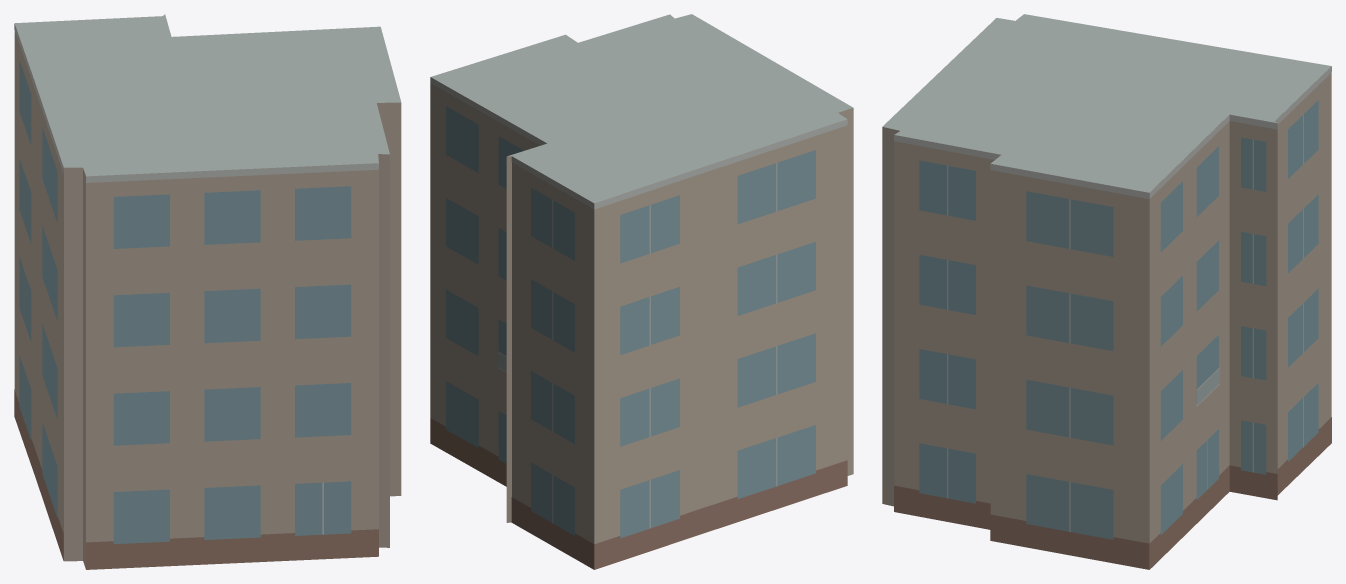
The model's file is survey-upis-32797791.glb.
The picture shows the model from 3 angles, left to right: view 1: azimuth 30°, elevation 25°; view 2: azimuth 150°, elevation 25°; view 3: azimuth 270°, elevation 25°; orthographic projection. The views are drawn at different scales.
Parts seen in each view (by area): view 1: survey-upis-32797791.tmp; view 2: survey-upis-32797791.tmp; view 3: survey-upis-32797791.tmp.
Boxes of the visible parts, box(x1,y1,x2,y2) form: survey-upis-32797791.tmp: box(14, 14, 401, 569); survey-upis-32797791.tmp: box(430, 14, 853, 569); survey-upis-32797791.tmp: box(882, 14, 1331, 569).
Size of the model in its own units: 14.81 by 14.55 by 15.73.
